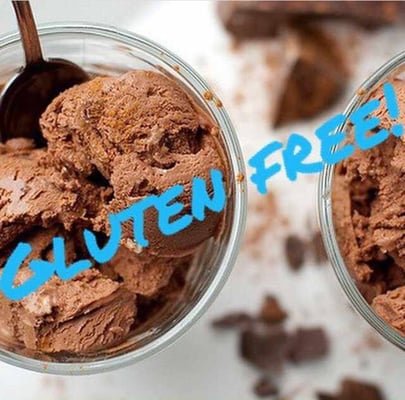burger: (311, 51, 405, 338)
pizza: (1, 18, 247, 386)
